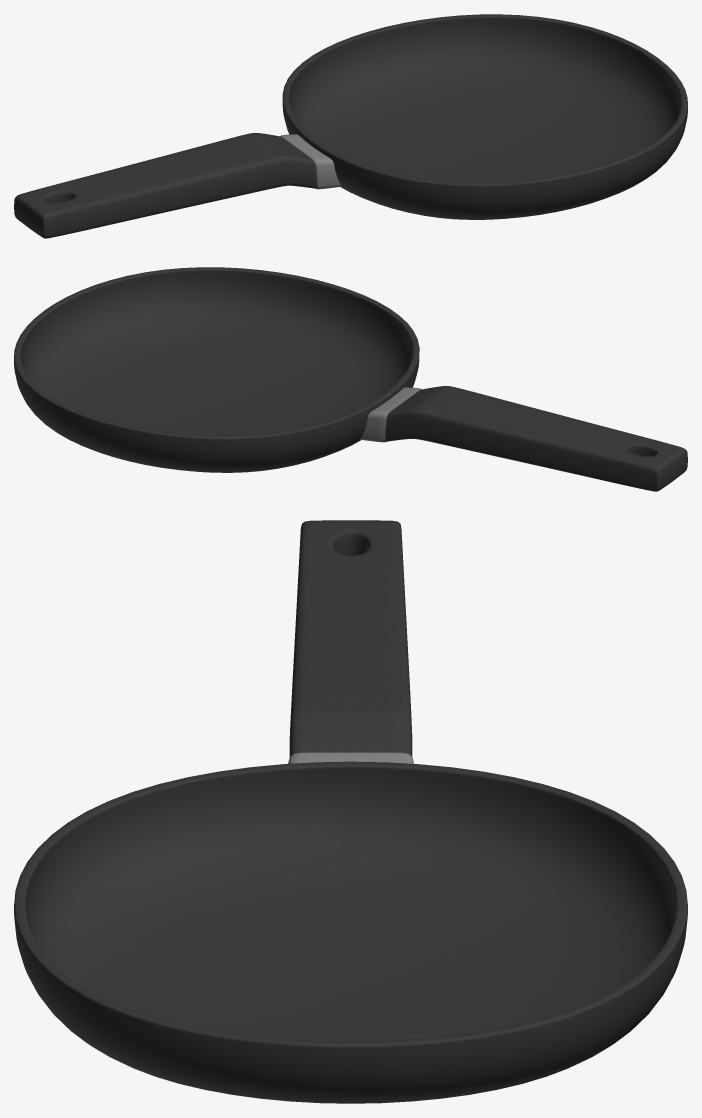
The model's file is Pan.gltf.
3 views of the same model, one above another, from view 1: azimuth 30°, elevation 25°; view 2: azimuth 150°, elevation 25°; view 3: azimuth 270°, elevation 25° (orthographic). The views are drawn at different scales.
Visible parts, largest first — view 1: Frying_Pan; view 2: Frying_Pan; view 3: Frying_Pan.
Part boxes in pixels (x1=…): Frying_Pan: x1=14, y1=14, x2=687, y2=238; Frying_Pan: x1=14, y1=267, x2=687, y2=491; Frying_Pan: x1=14, y1=520, x2=687, y2=1103.
Bounding box in the file's own units: 0.5384 × 0.0574 × 0.2957.
Materials: 1 (1 with a texture image).
